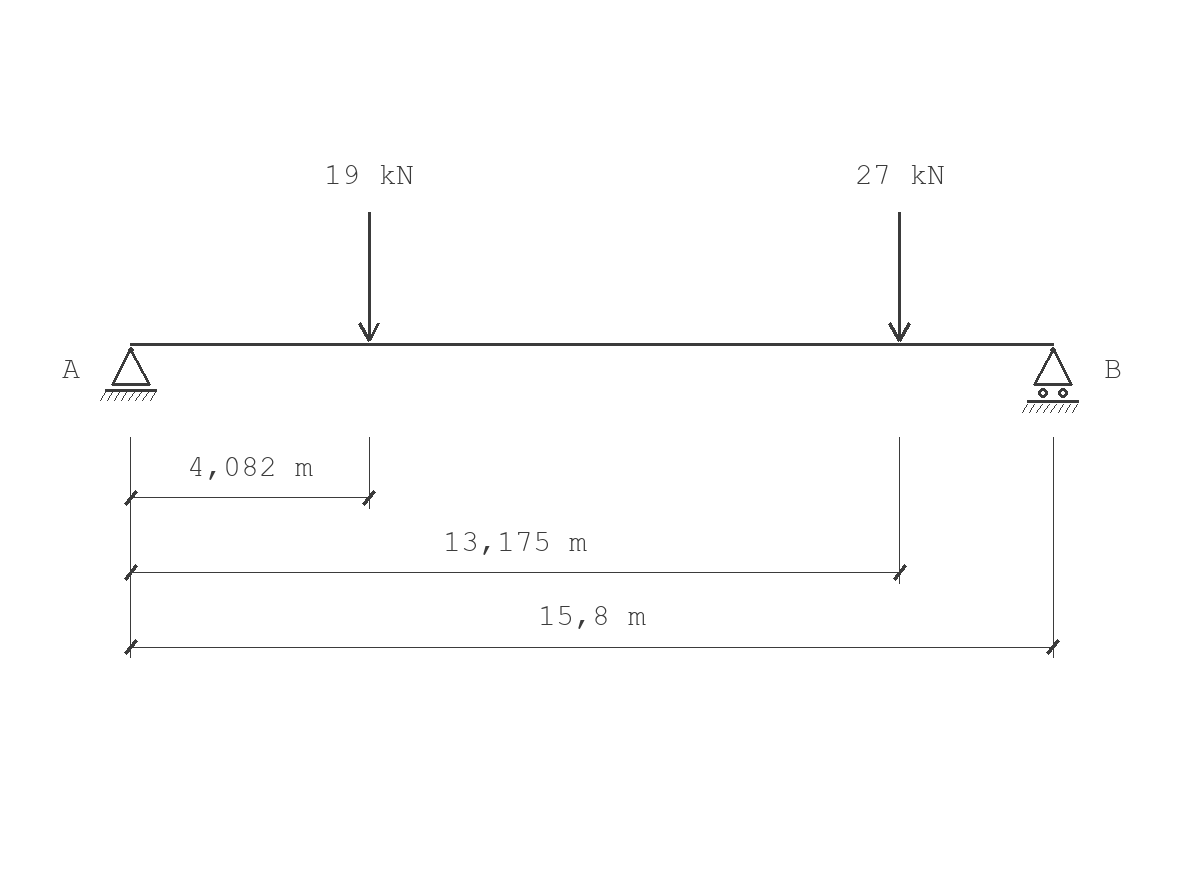pin_support: (100, 347, 157, 401)
point_load: (888, 212, 911, 342), (358, 212, 380, 342)
roller_support: (1022, 347, 1079, 413)
